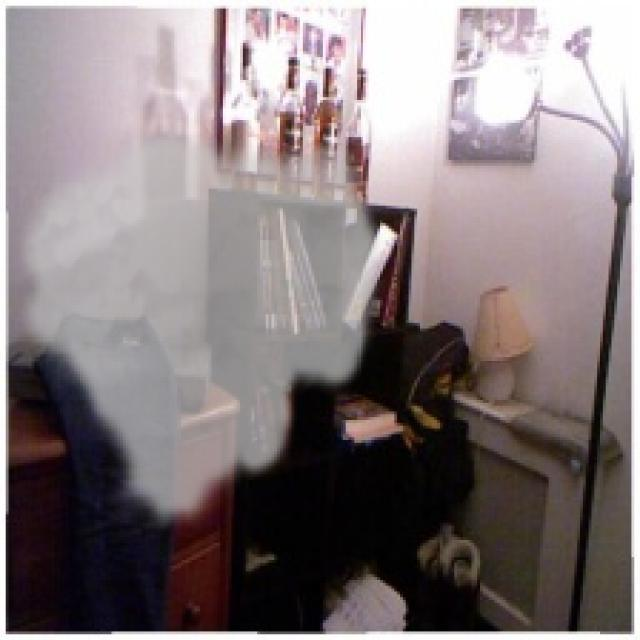Smoke: (8, 126, 386, 534)
